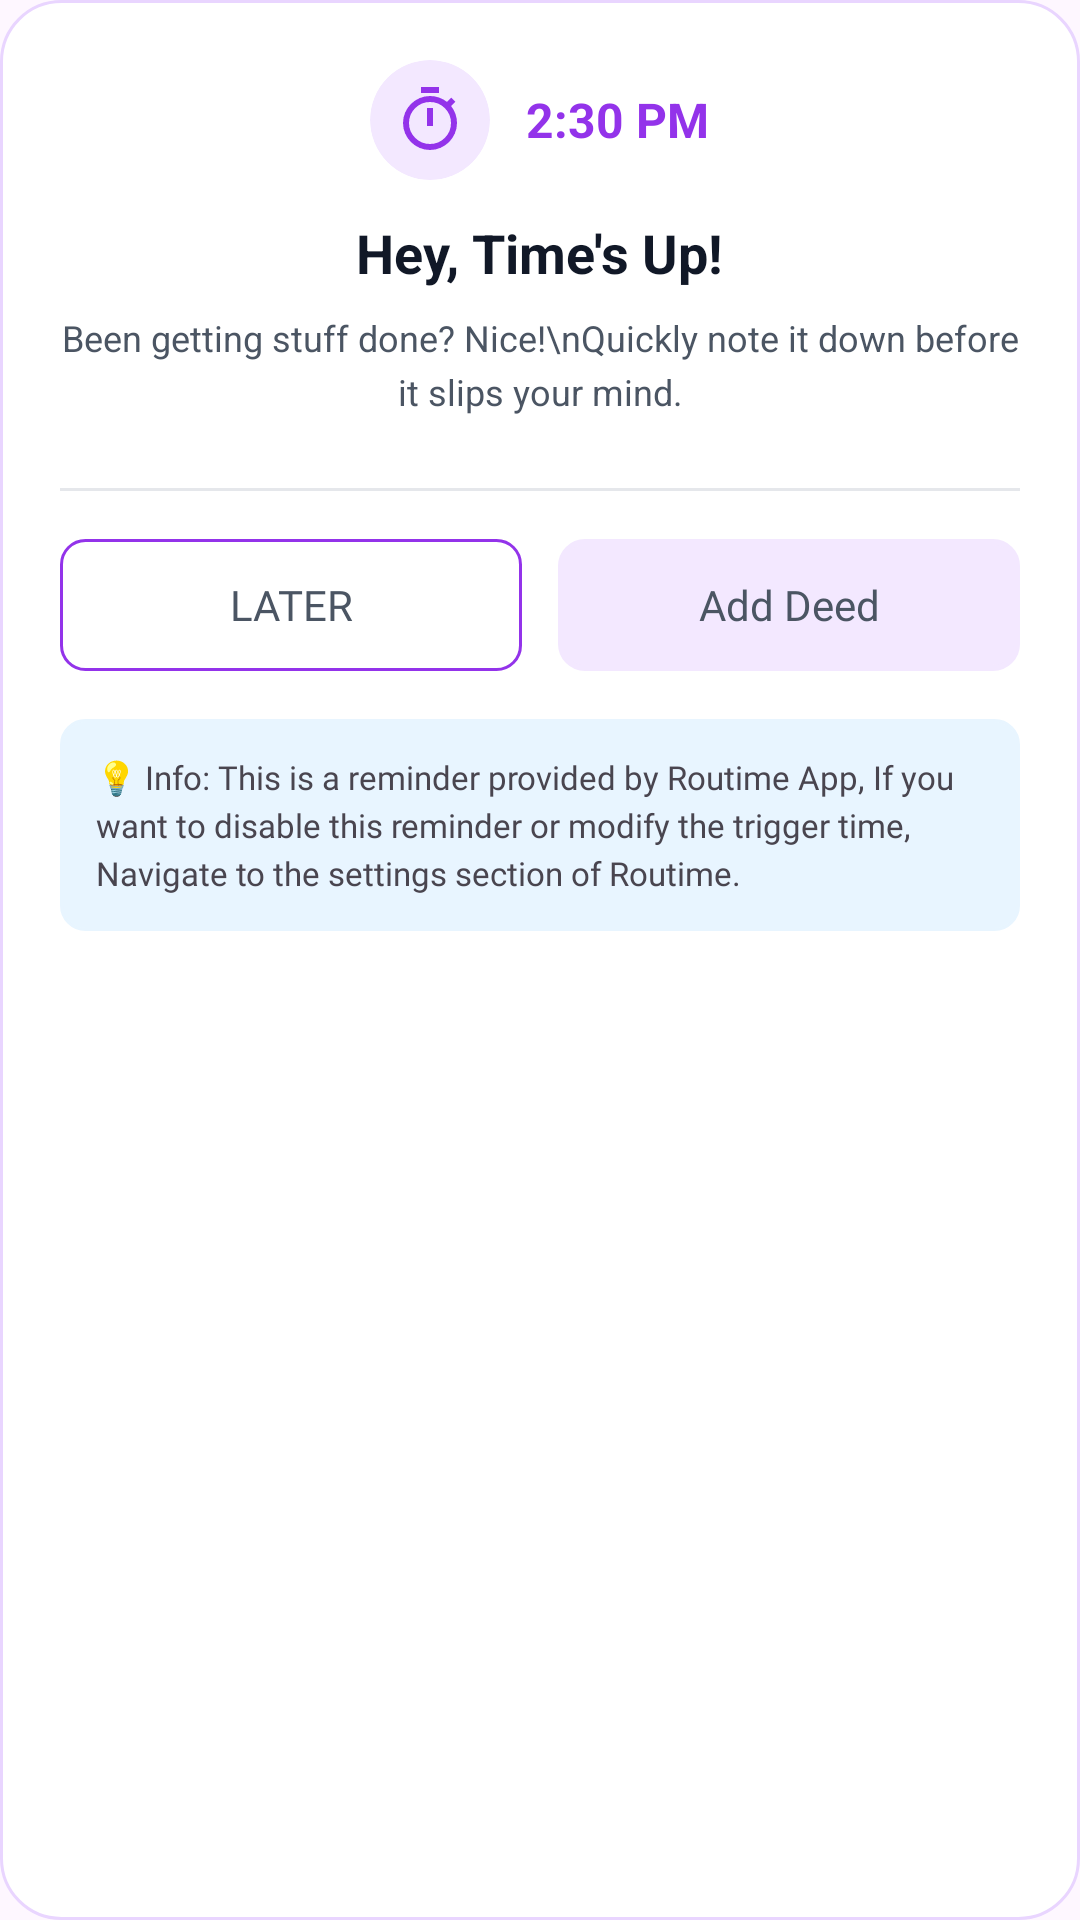

Where icons sit on this 1080 × 1920 app screen, as [x1, y1, x2, y2]:
clock: [403, 87, 457, 150]
